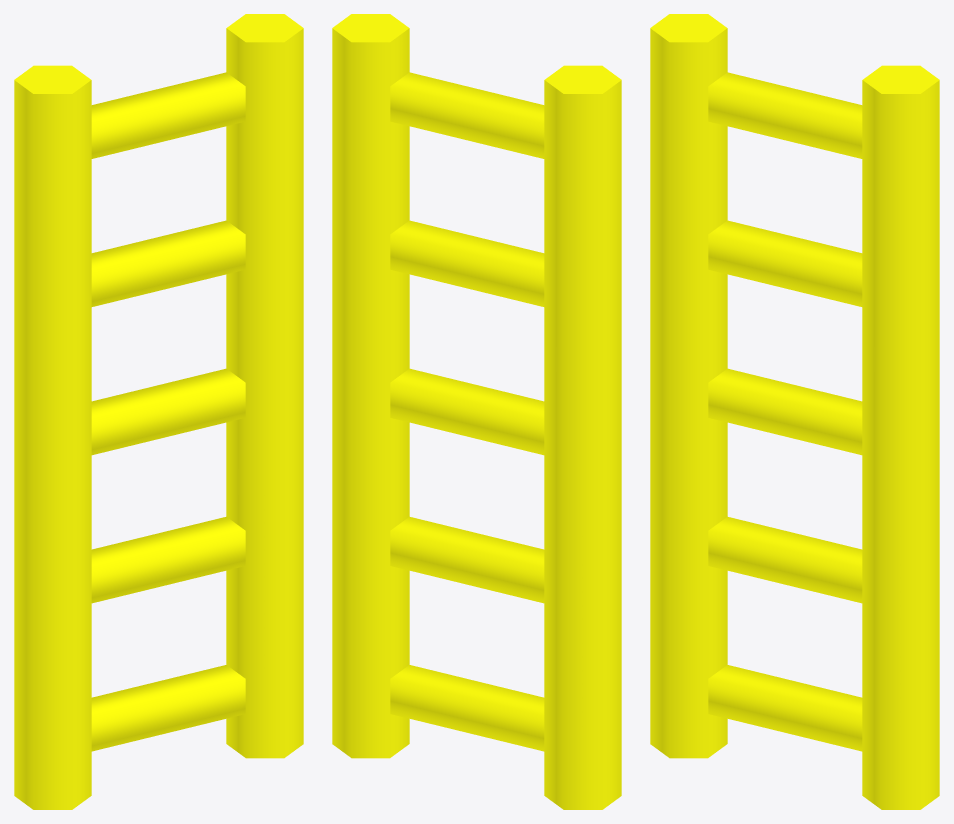
The picture shows the model from 3 angles, left to right: view 1: azimuth 30°, elevation 25°; view 2: azimuth 150°, elevation 25°; view 3: azimuth 330°, elevation 25°; orthographic projection.
Parts seen in each view (by area): view 1: ladder; view 2: ladder; view 3: ladder.
Boxes of the visible parts, x1,y1,x2,y2 form: ladder: (14, 14, 303, 809); ladder: (332, 14, 621, 809); ladder: (650, 14, 939, 809).
Size of the model in its own units: 1.15 by 2.9 by 0.284.
1 material, 1 textured.
